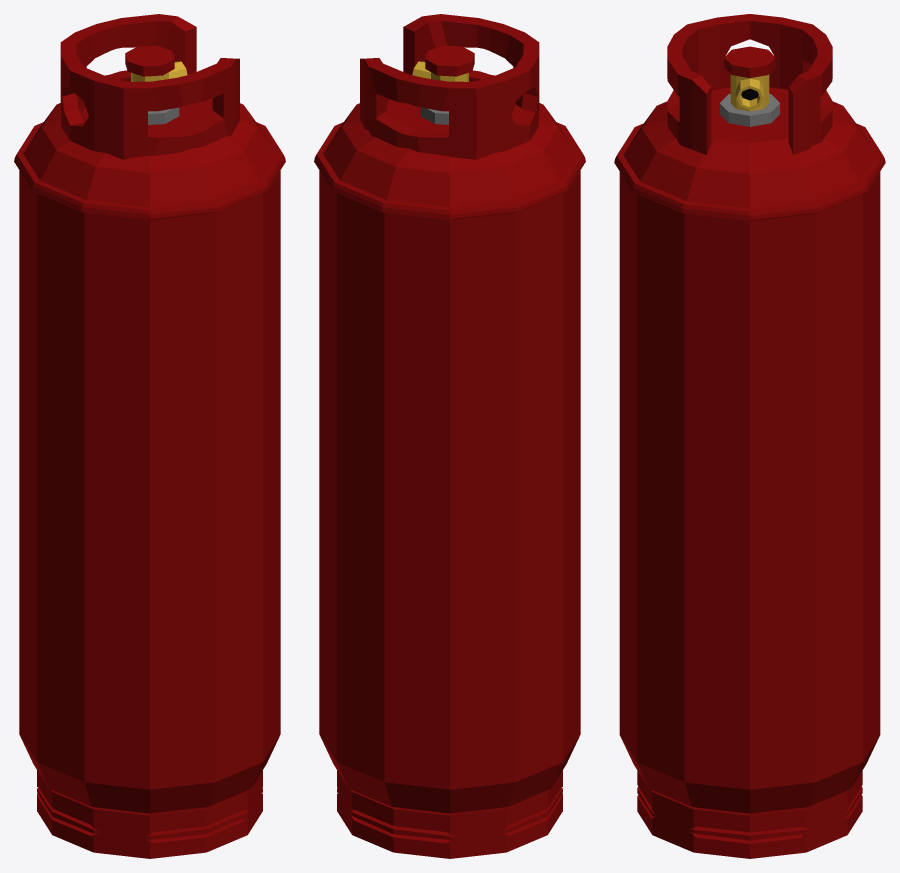
Rendered from bomboneGazGrande.fbx.
The picture shows the model from 3 angles, left to right: view 1: azimuth 30°, elevation 25°; view 2: azimuth 150°, elevation 25°; view 3: azimuth 270°, elevation 25°; orthographic projection.
Parts seen in each view (by area): view 1: Cylinder.002; view 2: Cylinder.002; view 3: Cylinder.002.
Part boxes in pixels (x1,y1,x2,y2): Cylinder.002: (14, 14, 285, 858); Cylinder.002: (314, 14, 585, 858); Cylinder.002: (614, 14, 885, 858).
Bounding box in the file's own units: 157 × 485 × 157.
1 material, 1 textured.
